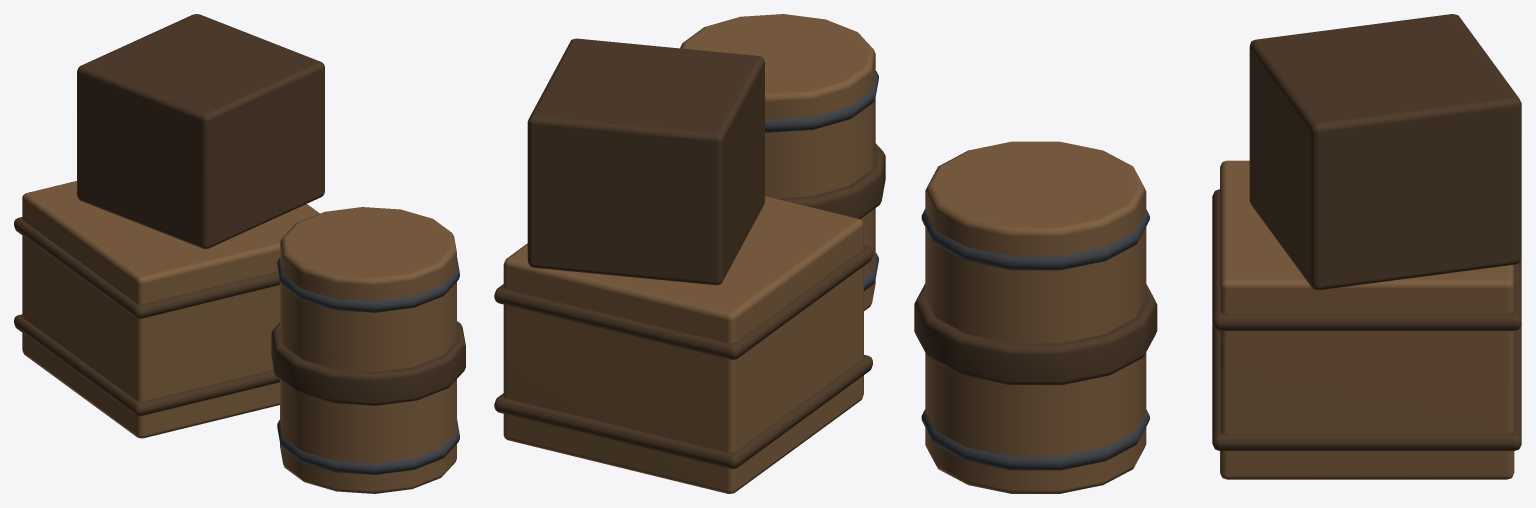
Rendered from vracht.glb.
3 renders of one model, left to right at view 1: azimuth 30°, elevation 25°; view 2: azimuth 150°, elevation 25°; view 3: azimuth 270°, elevation 25°, orthographic. The views are drawn at different scales.
Parts seen in each view (by area): view 1: Vracht; view 2: Vracht; view 3: Vracht.
Boxes of the visible parts, <box> form: Vracht: <box>14,14,465,493</box>; Vracht: <box>494,14,885,493</box>; Vracht: <box>914,14,1521,493</box>.
Bounding box in the file's own units: 0.9417 × 1.1 × 1.65.
